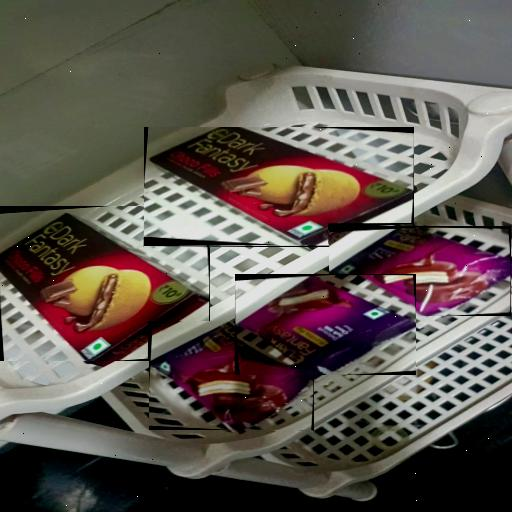Choco Fills: (0, 206, 210, 361), (144, 128, 414, 248)
Choco Pie: (235, 274, 416, 375), (149, 322, 314, 432), (329, 226, 511, 316)
